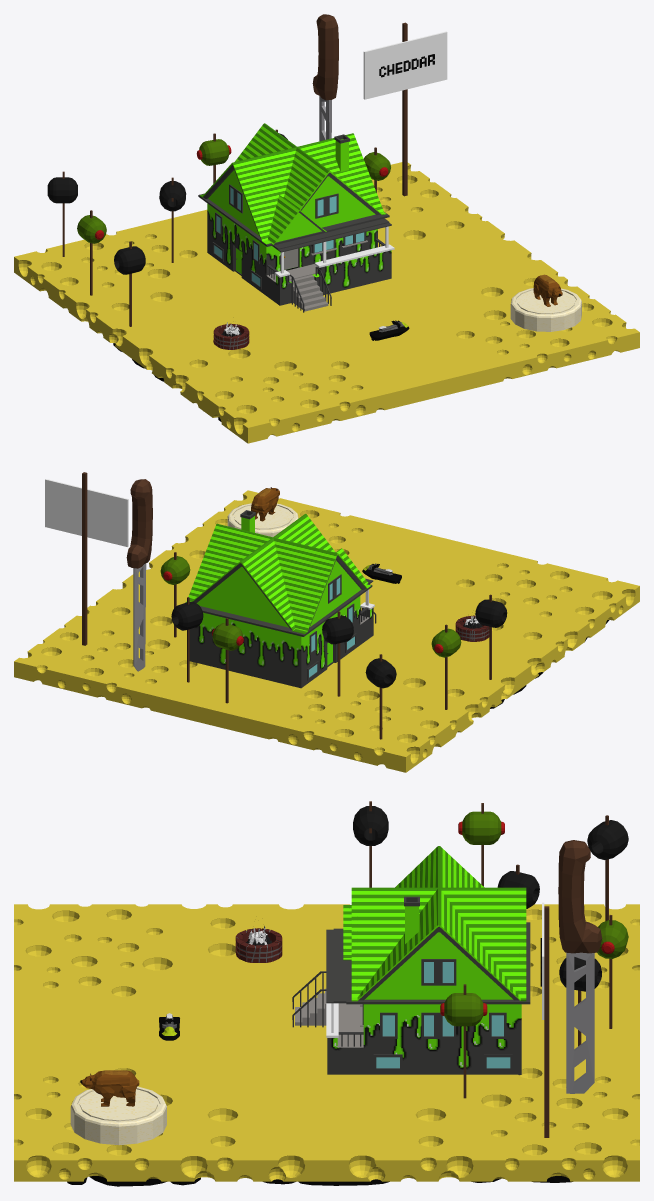
The picture shows the model from 3 angles, top to bottom: view 1: azimuth 30°, elevation 25°; view 2: azimuth 150°, elevation 25°; view 3: azimuth 270°, elevation 25°; orthographic projection. The views are drawn at different scales.
Visible parts, largest first — view 1: Cube.022, Cube.754, Cube.023, Cylinder.016, Cube.024, Sphere.017, Sphere.016, OBJRANDOM_CAMPFIRE, Sphere.020, Sphere.018, Sphere.022, ANIMAL_OSO (+1 smaller); view 2: Cube.022, Cube.754, Cube.023, Cube.024, Cylinder.016, Sphere.020, Sphere.016, Sphere.022, Sphere.017, Sphere.021, Sphere.018, Sphere.019 (+3 smaller); view 3: Cube.022, Cube.754, Cube.024, Cylinder.016, Cube.023, Sphere.019, Sphere.016, OBJRANDOM_CAMPFIRE, Sphere.018, ANIMAL_OSO, Curve.014, Sphere.017 (+3 smaller).
Boxes of the visible parts, box(x1,y1,x2,y2) form: Cube.022: box(14, 162, 639, 443); Cube.754: box(198, 123, 394, 312); Cube.023: box(363, 22, 447, 196); Cylinder.016: box(510, 288, 581, 331); Cube.024: box(312, 14, 338, 141); Sphere.017: box(114, 241, 145, 326); Sphere.016: box(47, 171, 77, 256); OBJRANDOM_CAMPFIRE: box(213, 322, 249, 349); Sphere.020: box(159, 177, 186, 262); Sphere.018: box(77, 210, 106, 295); Sphere.022: box(196, 133, 231, 183); ANIMAL_OSO: box(533, 274, 562, 306); Cube.022: box(14, 490, 639, 772); Cube.754: box(185, 510, 376, 688); Cube.023: box(45, 472, 128, 645); Cube.024: box(126, 479, 152, 671); Cylinder.016: box(227, 503, 298, 537); Sphere.020: box(322, 611, 353, 696); Sphere.016: box(365, 654, 396, 739); Sphere.022: box(212, 618, 243, 703); Sphere.017: box(475, 594, 507, 679); Sphere.021: box(171, 597, 203, 682); Sphere.018: box(431, 624, 461, 709); Sphere.019: box(160, 552, 190, 637); Cube.022: box(14, 904, 639, 1181); Cube.754: box(292, 846, 530, 1074); Cube.024: box(558, 840, 602, 1093); Cylinder.016: box(70, 1086, 166, 1145); Cube.023: box(540, 902, 549, 1137); Sphere.019: box(440, 984, 487, 1098); Sphere.016: box(587, 815, 628, 920); OBJRANDOM_CAMPFIRE: box(235, 926, 282, 962); Sphere.018: box(458, 803, 504, 886); ANIMAL_OSO: box(80, 1070, 139, 1106); Curve.014: box(67, 1176, 572, 1186); Sphere.017: box(353, 801, 388, 887).
Size of the model in its own units: 3917 by 1980 by 4000.
Materials: 30 (4 with a texture image).
